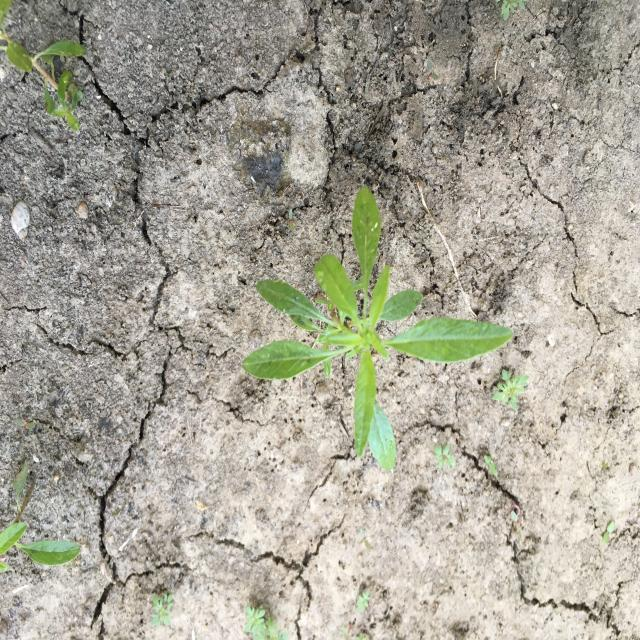Ragweed: (490, 368, 530, 412), (241, 604, 290, 639)
Waterhemp: (240, 184, 515, 474), (1, 1, 88, 140), (0, 457, 82, 576)
